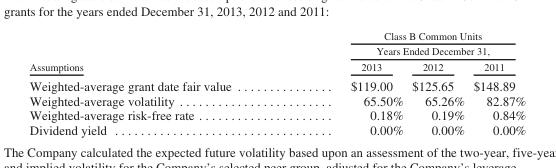table: (28, 29, 525, 137)
table column: (28, 29, 290, 137), (290, 29, 406, 137), (406, 29, 468, 137), (468, 29, 525, 137)
table column header: (28, 29, 525, 74)
table row: (28, 29, 525, 58), (28, 74, 525, 92), (28, 58, 525, 74), (28, 92, 525, 107), (28, 107, 525, 122), (28, 122, 525, 137)
table spanning cell: (28, 29, 290, 74), (290, 29, 525, 58)
